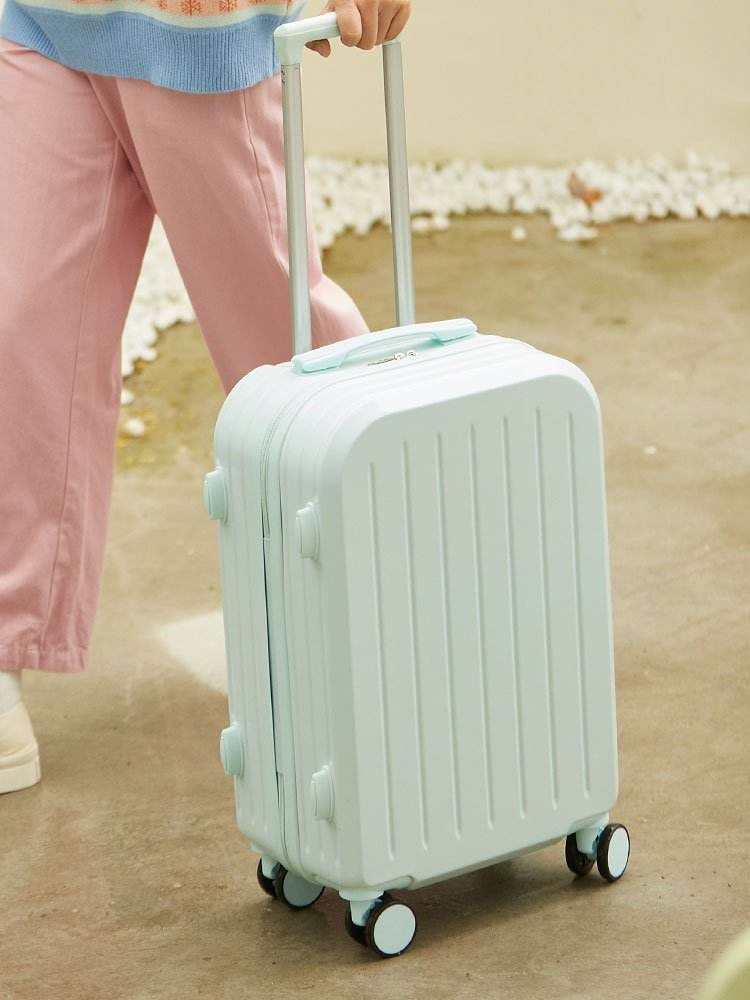box: (212, 331, 617, 890)
handle: (291, 315, 479, 374)
wheel: (345, 893, 418, 958), (256, 850, 325, 910), (565, 821, 631, 883)
